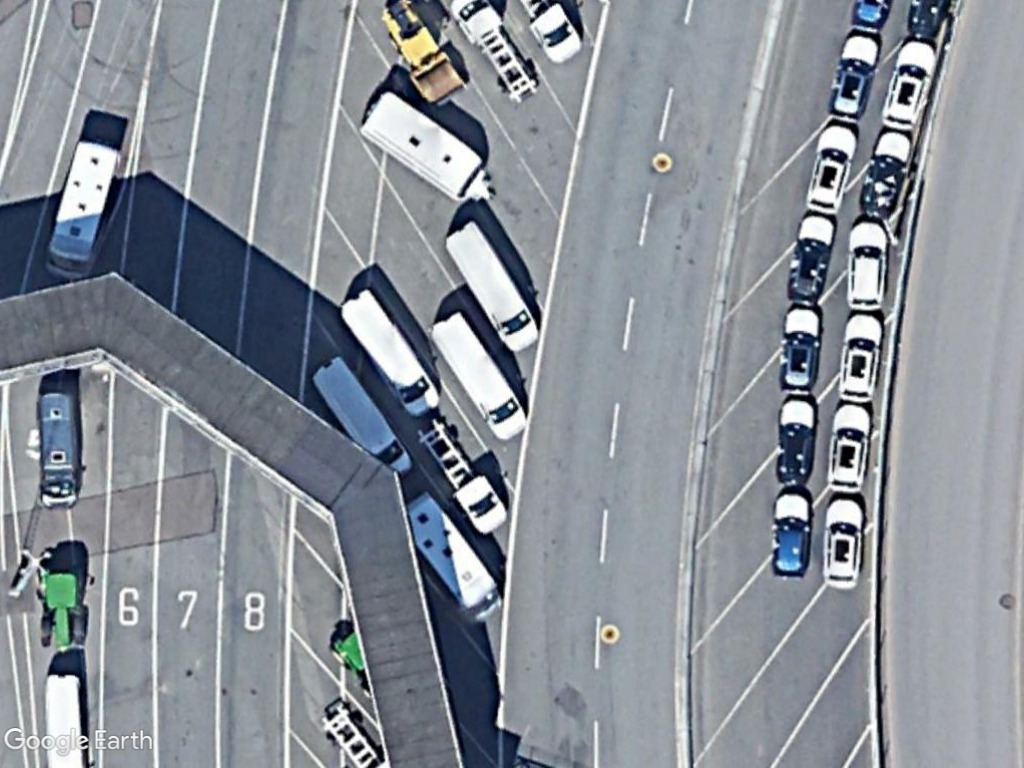car: (873, 34, 946, 134), (816, 395, 879, 500), (778, 207, 841, 306), (798, 120, 860, 216), (844, 213, 897, 319), (774, 299, 830, 396), (828, 25, 884, 121), (833, 306, 889, 401), (821, 491, 873, 593), (765, 487, 818, 581)
truck: (352, 90, 512, 213)
van: (428, 308, 536, 442), (309, 351, 420, 480), (440, 212, 540, 355), (338, 285, 443, 418), (44, 136, 123, 286), (30, 376, 88, 518)
